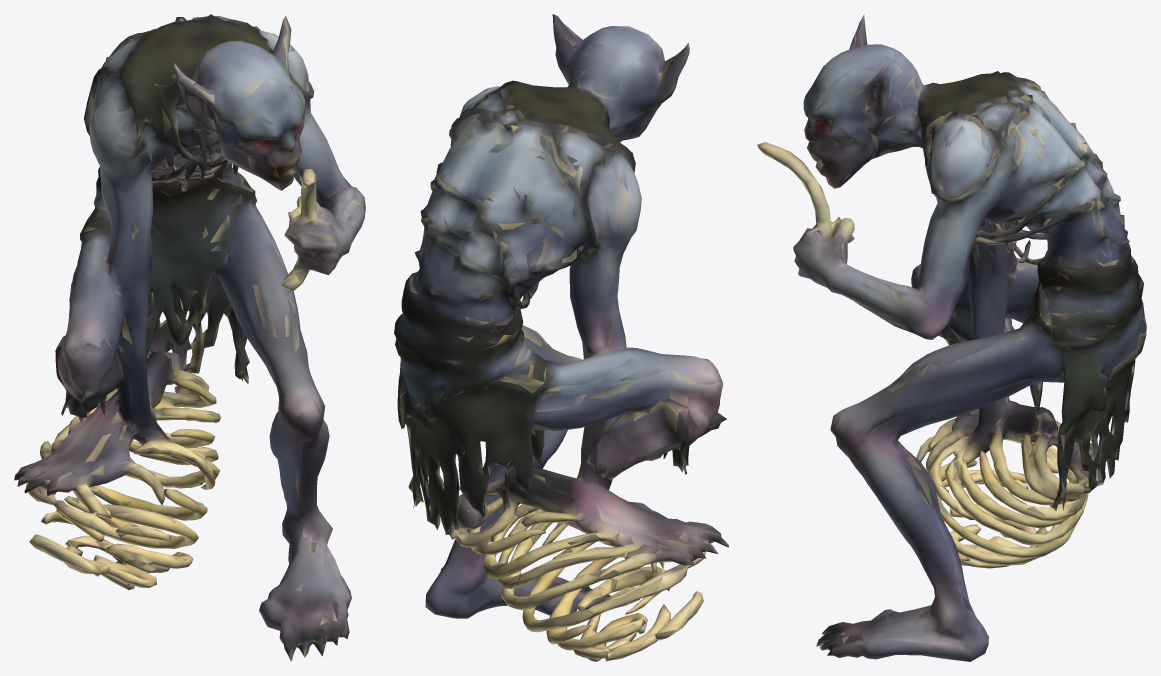
Rendered from Deadmouth_final.glb.
3 views of the same model, side by side, from view 1: azimuth 30°, elevation 25°; view 2: azimuth 150°, elevation 25°; view 3: azimuth 270°, elevation 25° (orthographic). The views are drawn at different scales.
Parts seen in each view (by area): view 1: Mesh1.0; view 2: Mesh1.0; view 3: Mesh1.0.
Boxes of the visible parts, x1=… form: Mesh1.0: x1=14, y1=14, x2=365, y2=661; Mesh1.0: x1=394, y1=14, x2=728, y2=661; Mesh1.0: x1=757, y1=14, x2=1146, y2=661.
Size of the model in its own units: 0.8135 by 1.5 by 0.9068.
1 material, 1 textured.
